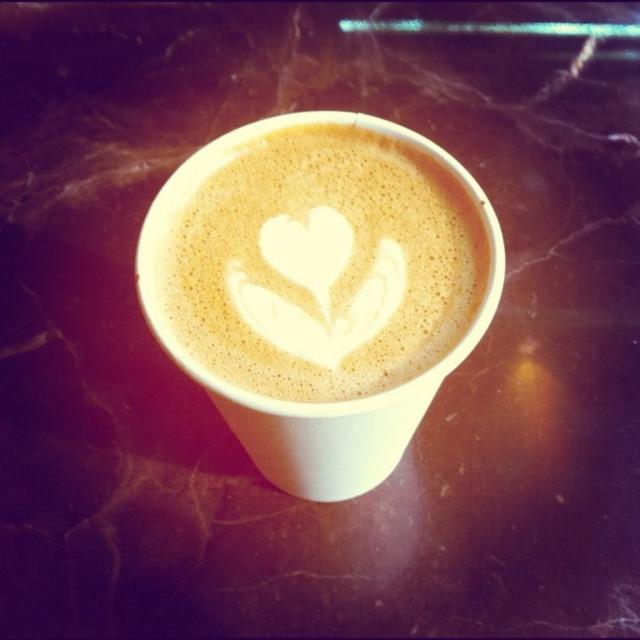Coffee: (159, 131, 493, 401)
